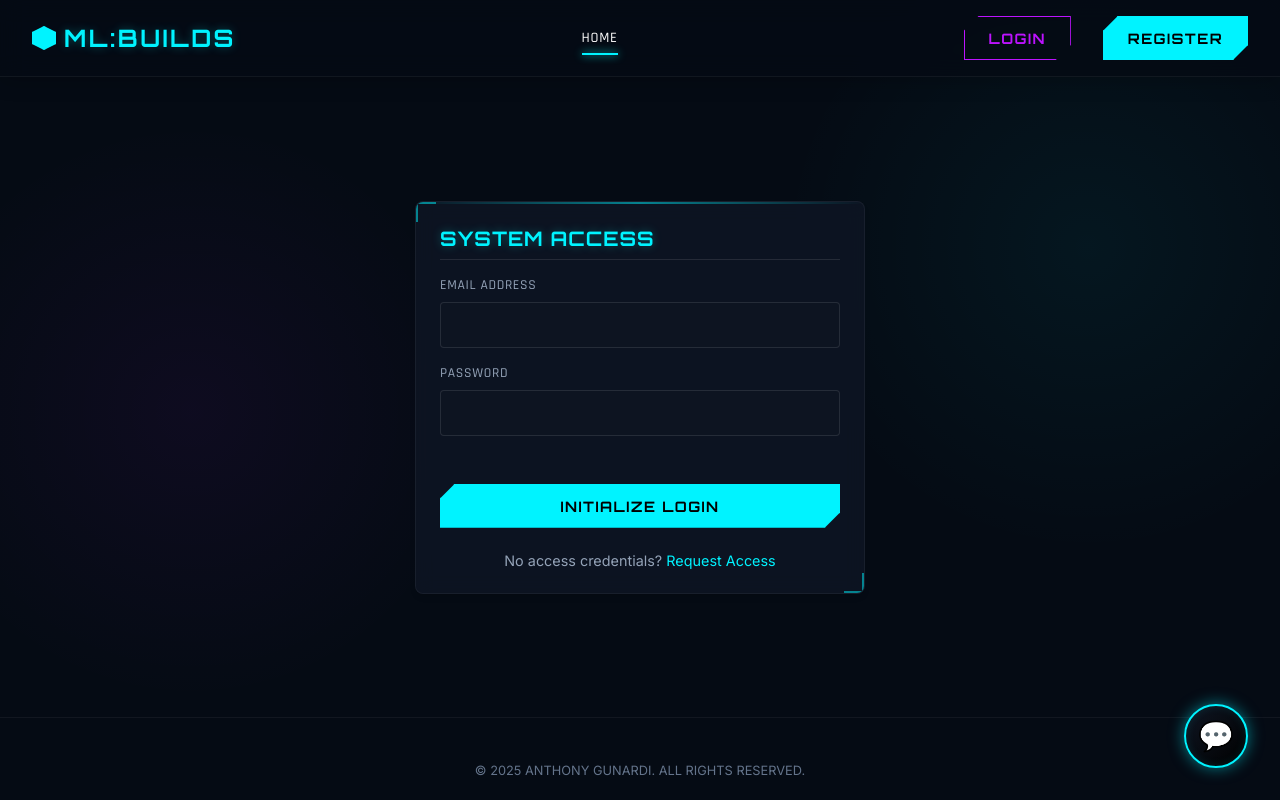
Scenario: LoginPage › displays default error message on login failure (Branch Coverage)
Type "user@test.com" into the field labelled "Email Address".
click(640, 324); type("user@test.com")  # box left=440, top=302, right=840, bottom=348
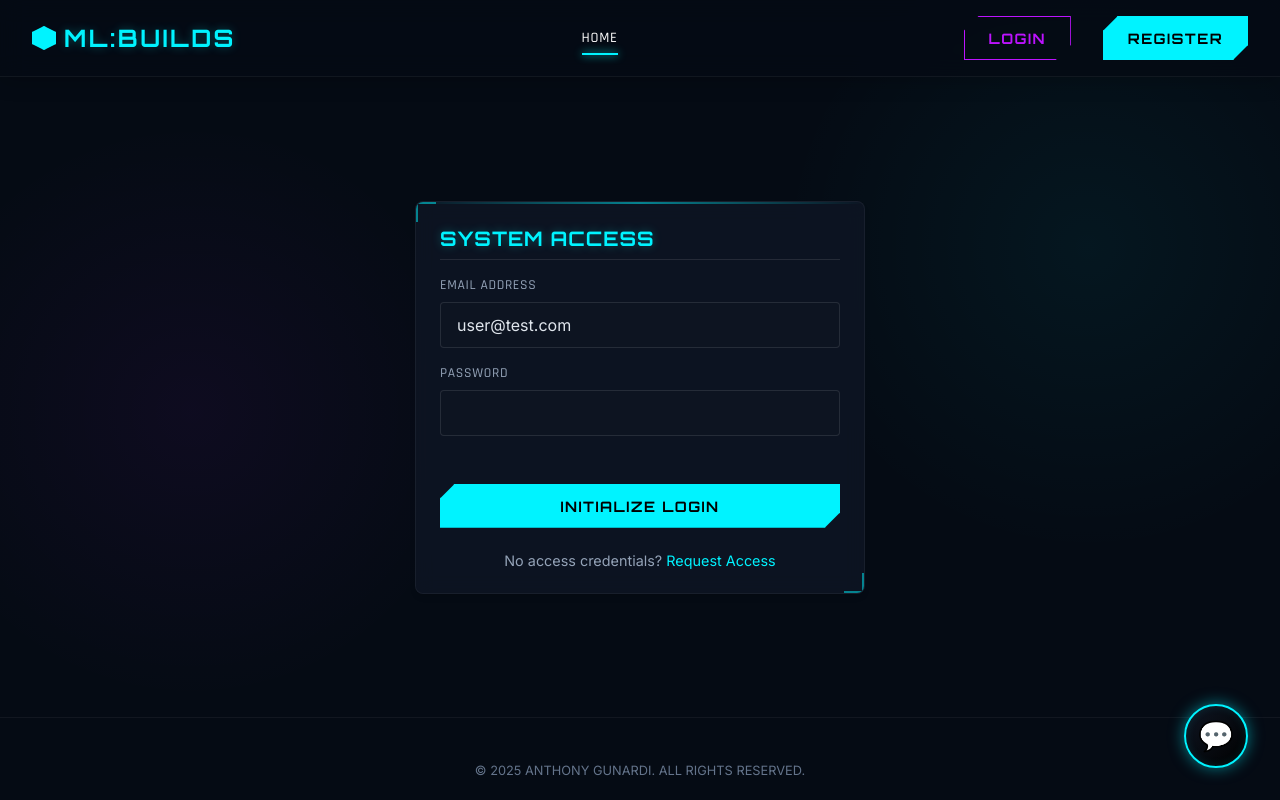
Type "password" into the password field labelled "Password".
click(640, 412); type("password")  # box left=440, top=390, right=840, bottom=436
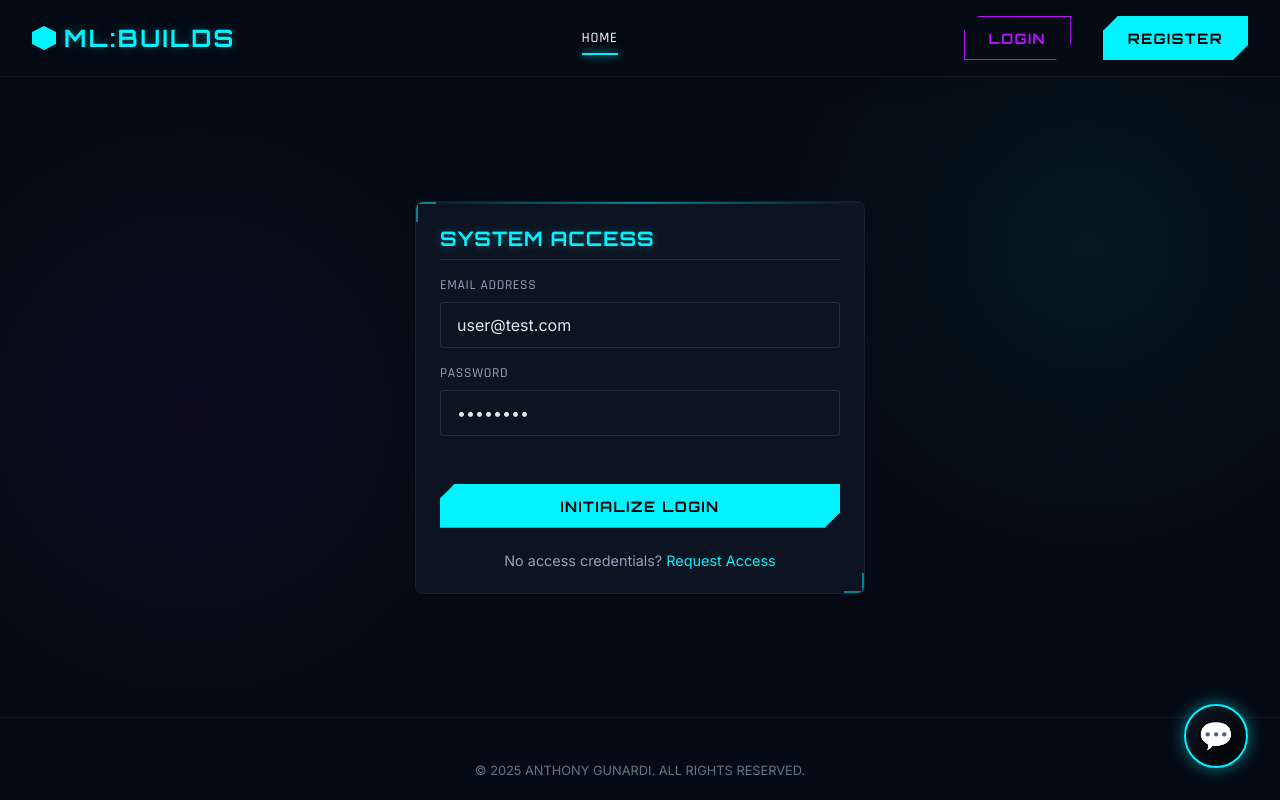
Click the button "Initialize Login".
click(640, 506)  # box left=440, top=484, right=840, bottom=528
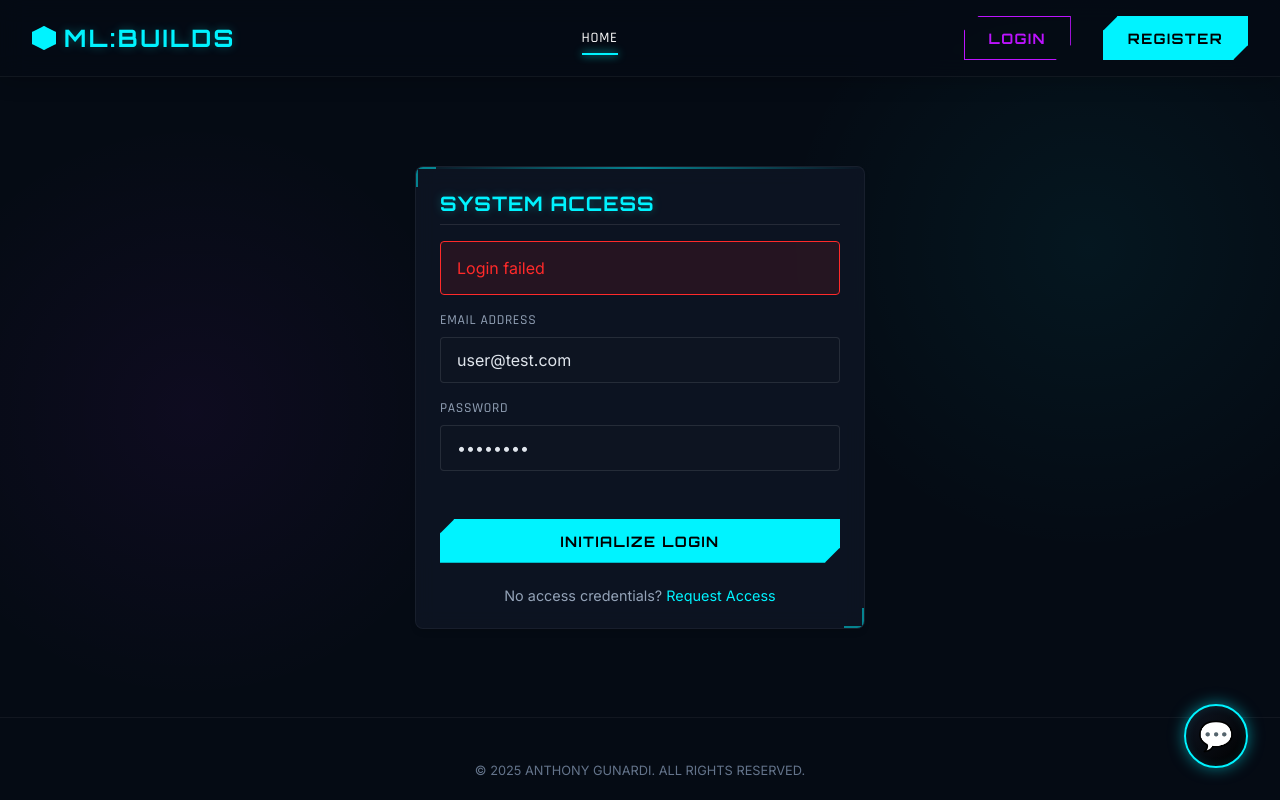
Now the text "Login failed" is shown, box left=440, top=240, right=840, bottom=294
